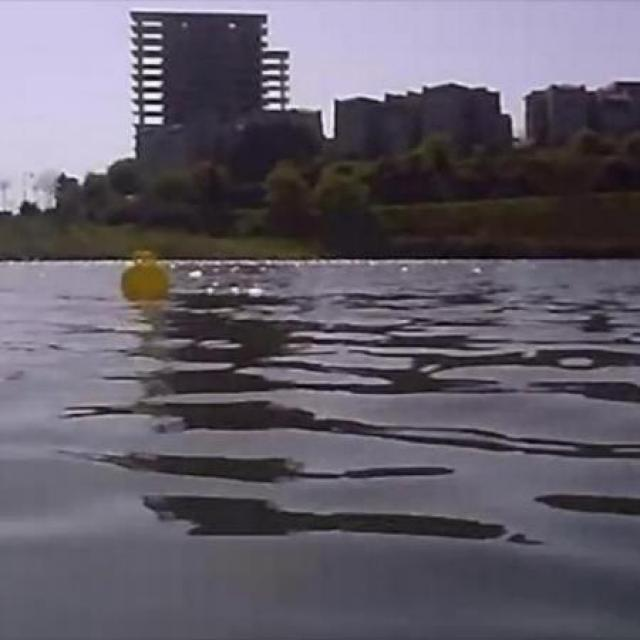buoy: (122, 252, 172, 302)
